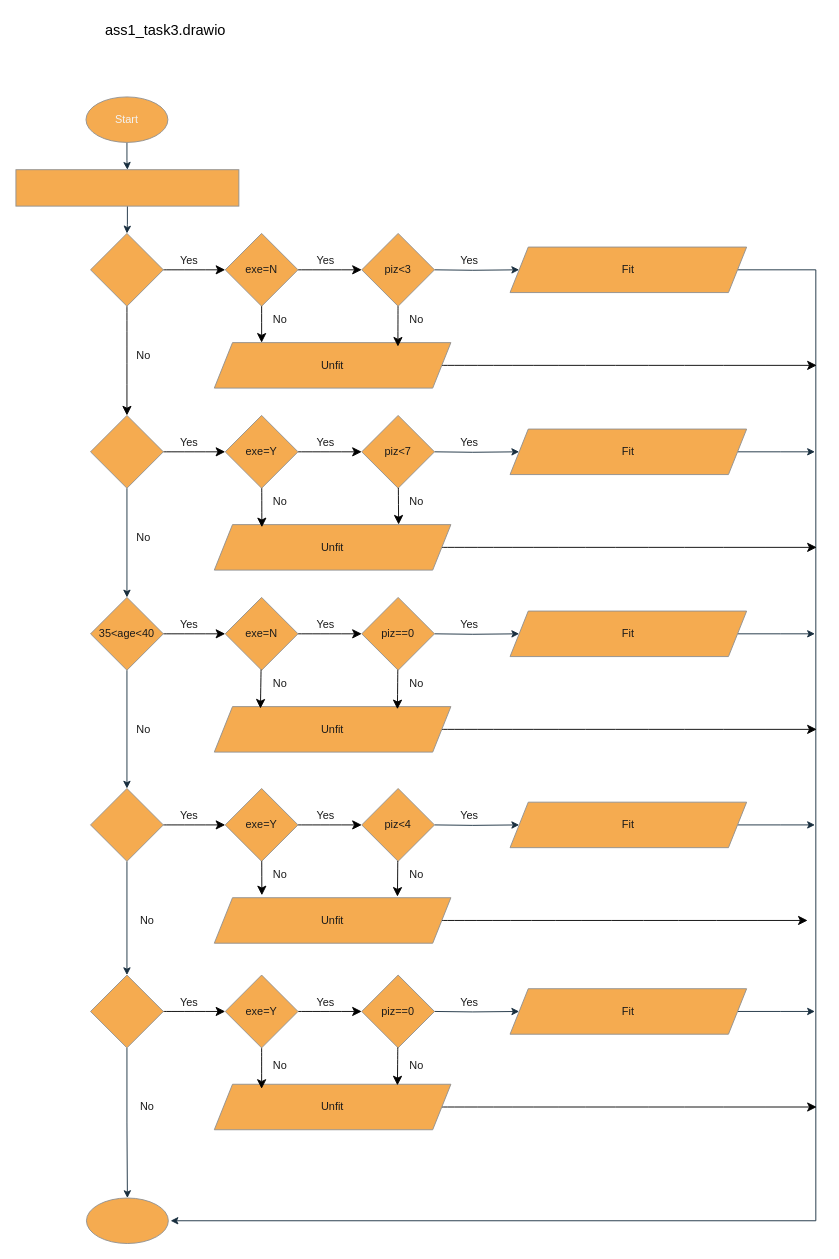
Image size: 839x1259. Some labels were removed from this diagram. Each missing label, with the box of its shape:
20<age<25: (90, 233, 163, 306)
25<age<55: (90, 415, 163, 488)
40<age<50: (90, 788, 163, 861)
age>50: (90, 974, 163, 1048)
Enter Units: (15, 169, 239, 206)
Stop: (86, 1197, 168, 1244)
